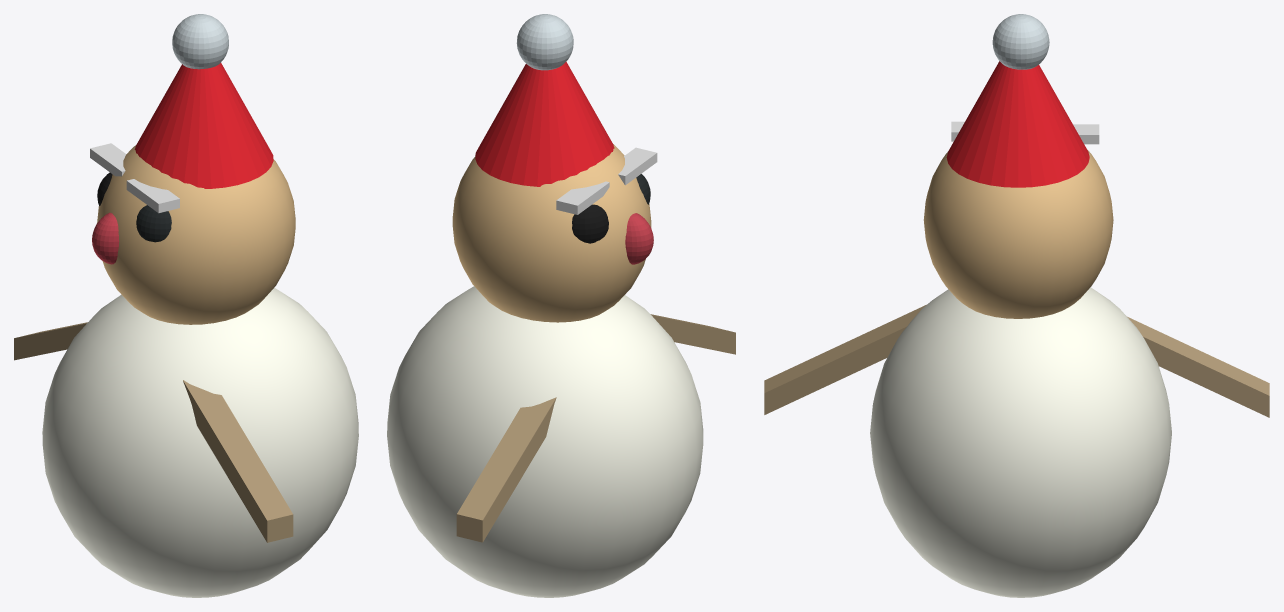
The model's file is snowman-3.fbx.
3 views of the same model, side by side, from view 1: azimuth 30°, elevation 25°; view 2: azimuth 150°, elevation 25°; view 3: azimuth 270°, elevation 25° (orthographic).
Visible parts, largest first — view 1: 球体, 球体.001, 锥体, 立方体.002, 球体.002, 立方体.003, 球体.003, 立方体.001, 球体.005, 立方体; view 2: 球体, 球体.001, 锥体, 立方体.003, 球体.002, 立方体.002, 球体.003, 球体.004, 立方体, 立方体.001; view 3: 球体, 球体.001, 锥体, 立方体.002, 立方体.003, 球体.002.
Part boxes in pixels (<box>): 球体: <box>42,288,358,597</box>; 球体.001: <box>97,145,295,324</box>; 锥体: <box>134,63,273,188</box>; 立方体.002: <box>183,380,293,542</box>; 球体.002: <box>172,14,228,69</box>; 立方体.003: <box>14,322,87,360</box>; 球体.003: <box>92,212,119,264</box>; 立方体.001: <box>126,179,179,213</box>; 球体.005: <box>136,205,171,242</box>; 立方体: <box>90,143,126,176</box>; 球体: <box>387,286,703,597</box>; 球体.001: <box>452,144,651,322</box>; 锥体: <box>475,61,614,186</box>; 立方体.003: <box>456,397,556,542</box>; 球体.002: <box>516,14,573,70</box>; 立方体.002: <box>650,314,735,354</box>; 球体.003: <box>625,213,653,264</box>; 球体.004: <box>572,204,608,243</box>; 立方体: <box>556,181,609,214</box>; 立方体.001: <box>618,147,657,185</box>; 球体: <box>870,287,1171,597</box>; 球体.001: <box>923,149,1113,318</box>; 锥体: <box>946,61,1089,187</box>; 立方体.002: <box>764,304,926,414</box>; 立方体.003: <box>1127,316,1269,417</box>; 球体.002: <box>992,14,1049,69</box>.
Bounding box in the file's own units: 75.15 × 146 × 118.
